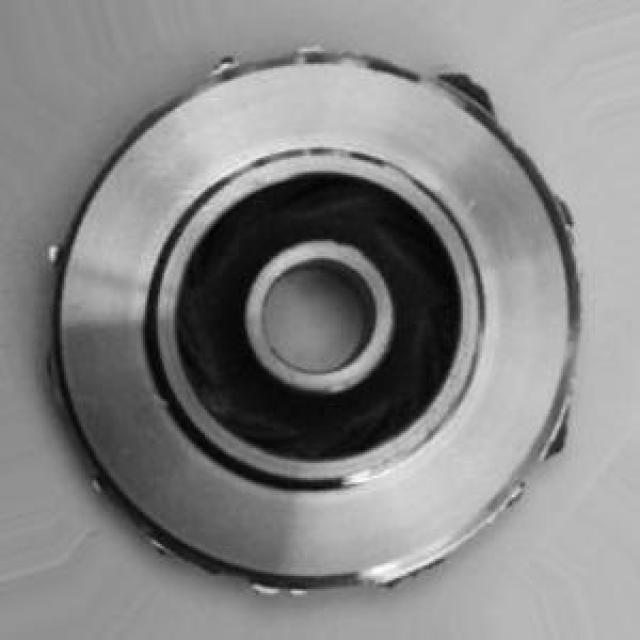Defect: (440, 50, 485, 112)
